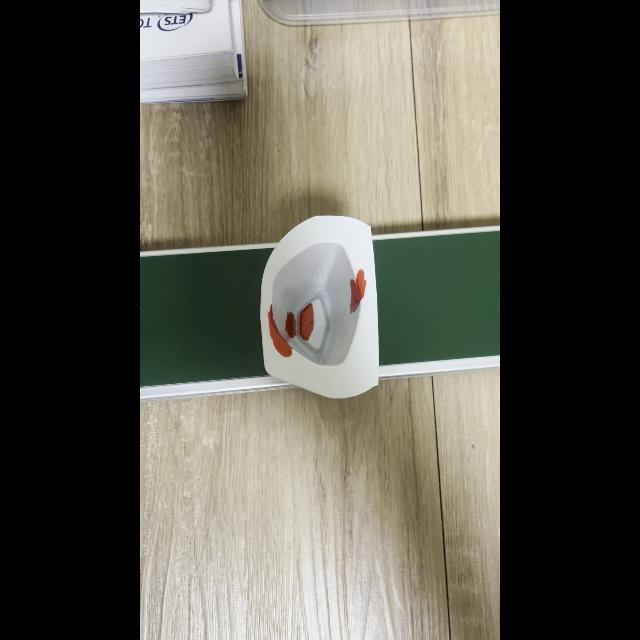dirty: (260, 216, 378, 397)
